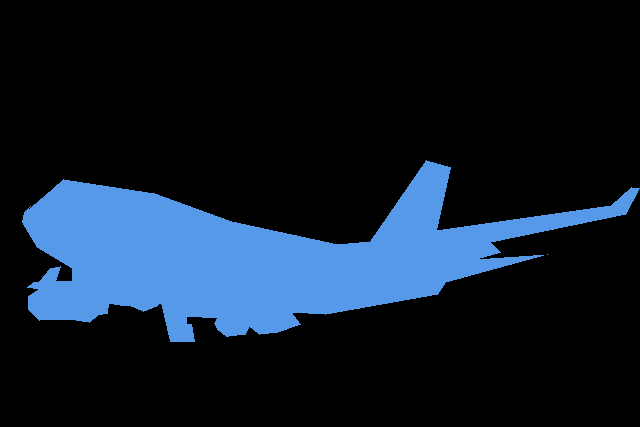Airplane: (22, 160, 639, 342)
